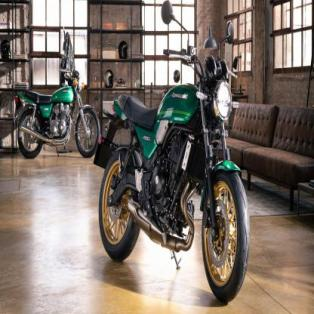Motocicleta: (100, 0, 254, 304), (9, 30, 101, 158)
